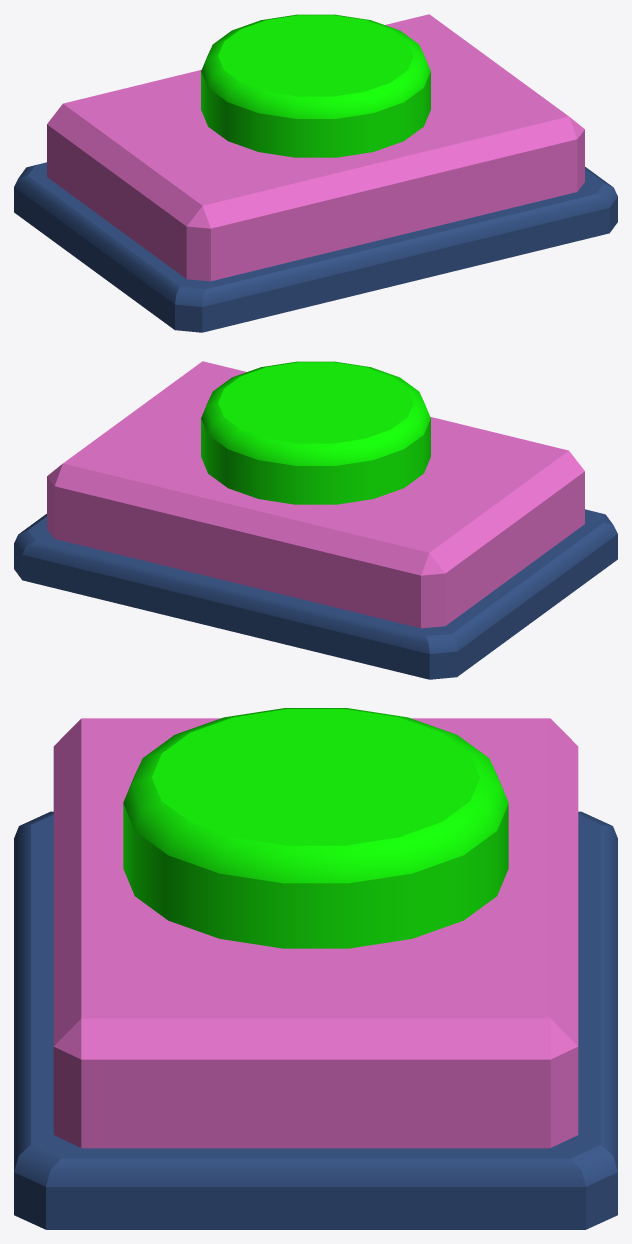
Rendered from Prekidac_1.fbx.
3 renders of one model, top to bottom at view 1: azimuth 30°, elevation 25°; view 2: azimuth 150°, elevation 25°; view 3: azimuth 270°, elevation 25°, orthographic. The views are drawn at different scales.
Visible parts, largest first — view 1: Cube.004, Cylinder.002; view 2: Cube.004, Cylinder.002; view 3: Cube.004, Cylinder.002.
Boxes of the visible parts, x1,y1,x2,y2 form: Cube.004: [14, 14, 617, 332]; Cylinder.002: [201, 14, 430, 157]; Cube.004: [14, 361, 617, 679]; Cylinder.002: [201, 361, 430, 504]; Cube.004: [14, 718, 617, 1229]; Cylinder.002: [123, 708, 508, 948].
Bounding box in the file's own units: 0.7339 × 0.2553 × 0.516.
